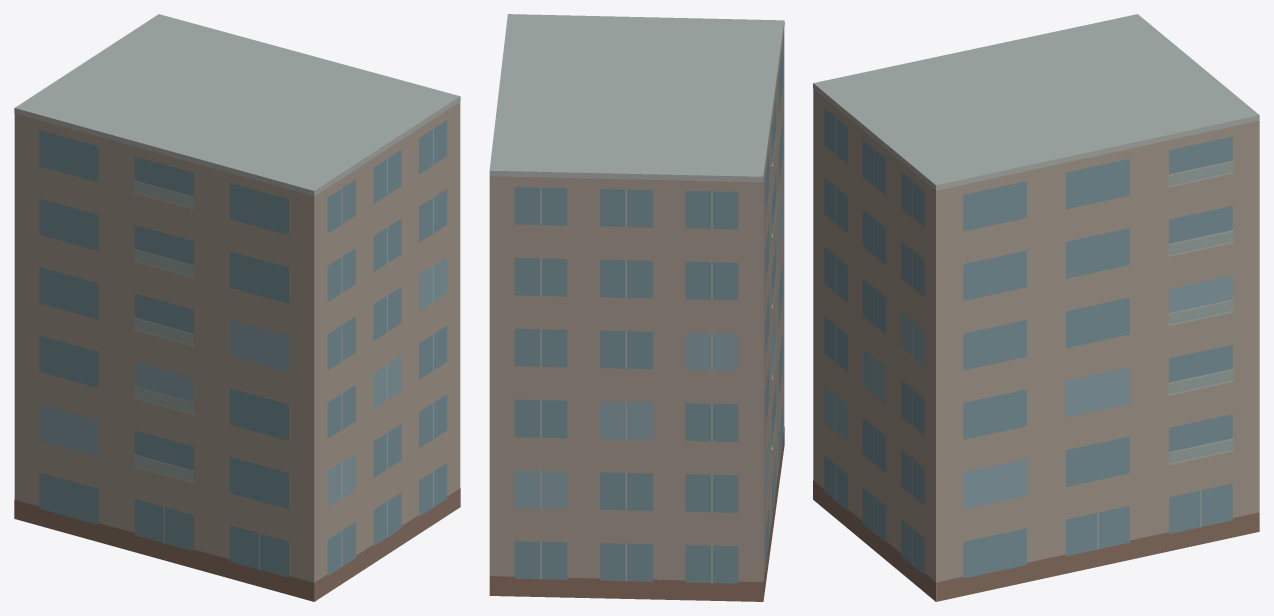
The model's file is survey-upis-32988960.glb.
3 views of the same model, side by side, from view 1: azimuth 30°, elevation 25°; view 2: azimuth 150°, elevation 25°; view 3: azimuth 270°, elevation 25° (orthographic). The views are drawn at different scales.
Parts seen in each view (by area): view 1: survey-upis-32988960.tmp; view 2: survey-upis-32988960.tmp; view 3: survey-upis-32988960.tmp.
Part boxes in pixels (box(x1,y1,x2,y2)): survey-upis-32988960.tmp: box(14, 14, 460, 601); survey-upis-32988960.tmp: box(489, 14, 784, 601); survey-upis-32988960.tmp: box(813, 14, 1259, 601).
Bounding box in the file's own units: 16.6 × 18.8 × 18.28.
